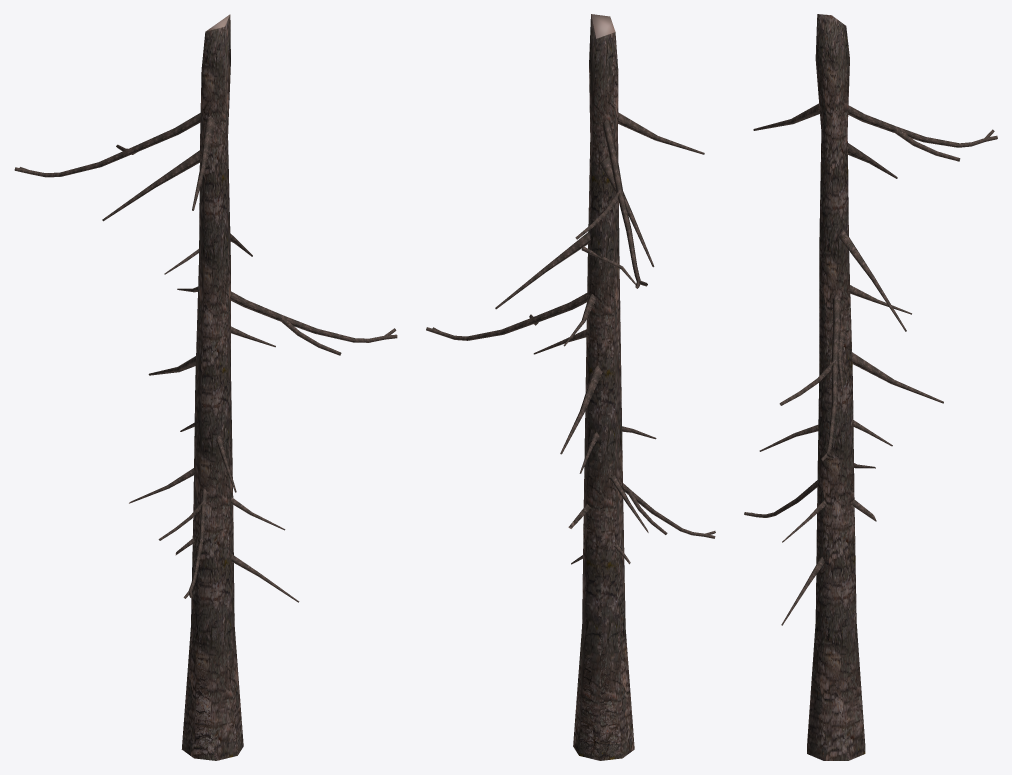
Rendered from dead_conifer2.glb.
3 views of the same model, side by side, from view 1: azimuth 30°, elevation 25°; view 2: azimuth 150°, elevation 25°; view 3: azimuth 270°, elevation 25° (orthographic).
Visible parts, largest first — view 1: Object_23; view 2: Object_23; view 3: Object_23.
Part boxes in pixels (left/top/right/bottom): Object_23: left=14, top=14, right=397, bottom=760; Object_23: left=426, top=14, right=715, bottom=760; Object_23: left=744, top=14, right=997, bottom=760.
Size of the model in its own units: 4.16 by 9.64 by 3.
Materials: 1 (1 with a texture image).
